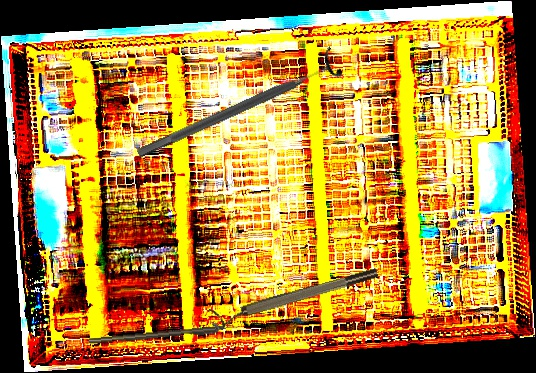Fixation Ring: (130, 45, 345, 170), (207, 265, 382, 332)
Hook Surgical: (88, 324, 239, 345)
